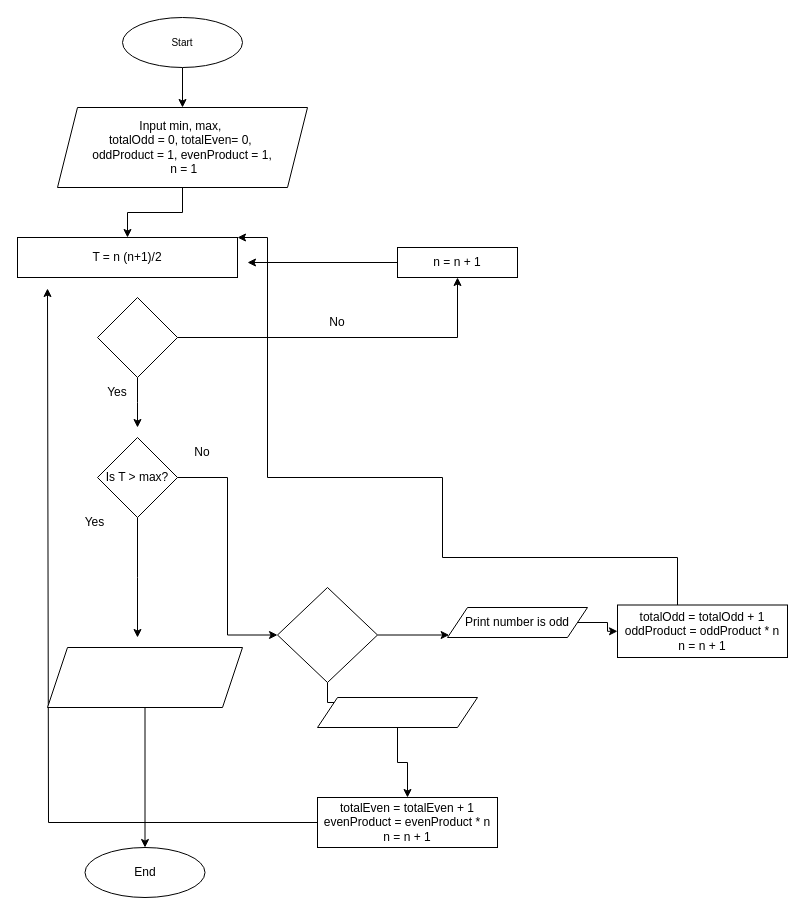
This 805x915 diagram has some shape labels left out. The centre of each missing label's shape, as x and y in pixels:
Is T % 2 == 0: pixel 327 634
Is T > min?: pixel 137 337
Print number is even: pixel 397 712
Print oddProduct, evenProduct Print totalOdd, totalEven: pixel 144 677
